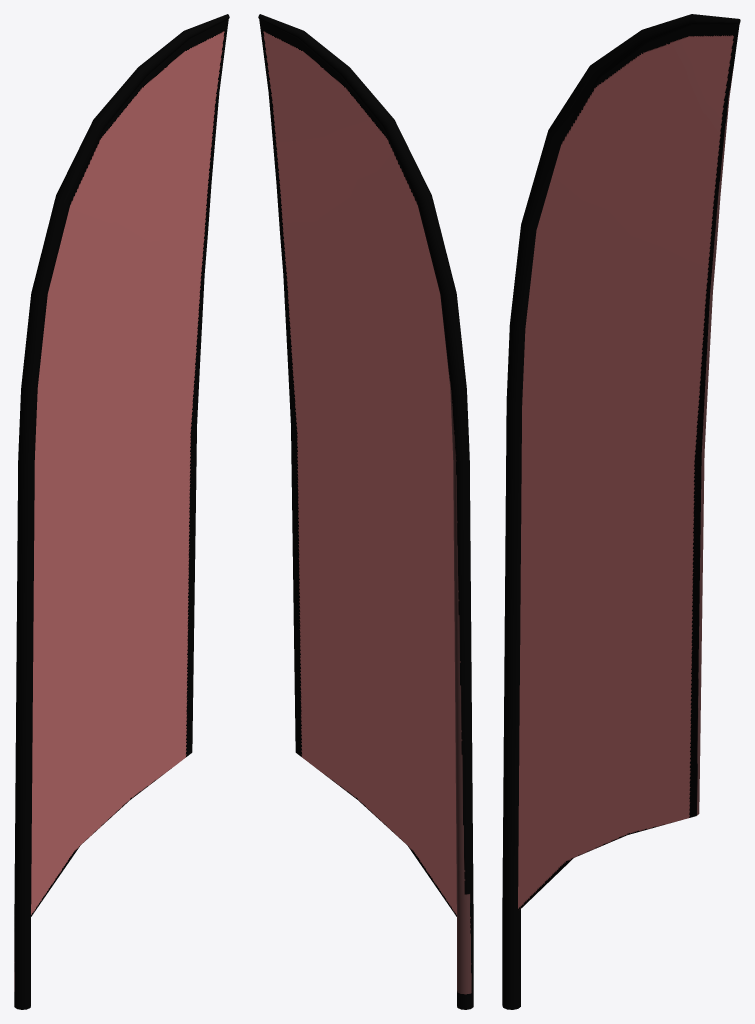
File: flag.gltf
3 renders of one model, left to right at view 1: azimuth 30°, elevation 25°; view 2: azimuth 150°, elevation 25°; view 3: azimuth 330°, elevation 25°, orthographic. The views are drawn at different scales.
Parts seen in each view (by area): view 1: Cylinder; view 2: Cylinder; view 3: Cylinder.
Part boxes in pixels (x1,y1,x2,y2): Cylinder: (14,14,229,1009); Cylinder: (258,14,473,1009); Cylinder: (502,14,740,1009).
Bounding box in the file's own units: 0.72 × 3.05 × 0.05.
1 material, 1 textured.
